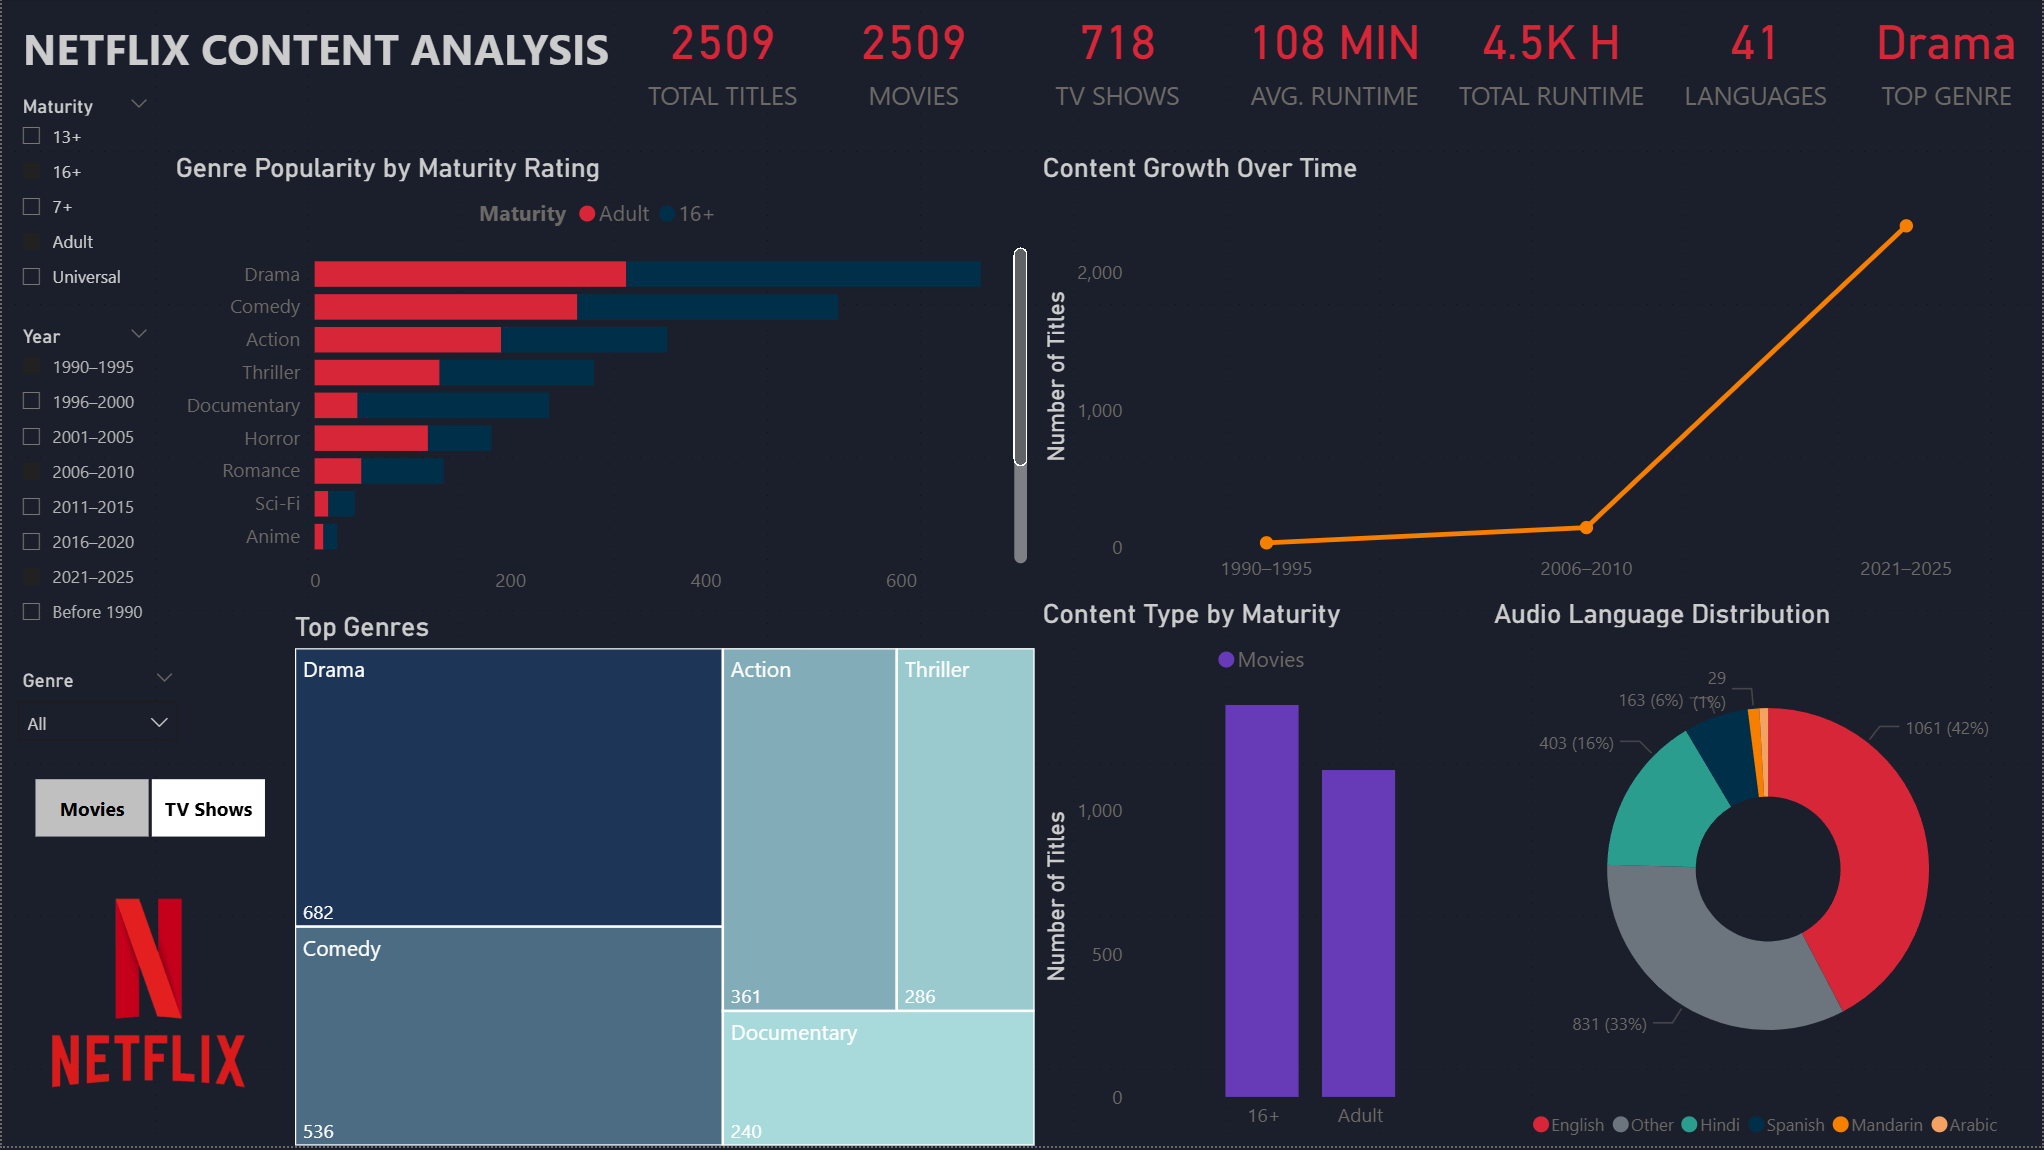

What the dashboard file says about the page in this screenshot:
{"tool":"powerbi","page":{"name":"EXECUTIVE SUMMARY","canvas":[1280,720],"ordinal":0},"visuals":[{"type":"textbox","box":[8,8,400,48],"z":0},{"type":"slicer","fields":{"Values":["netflix_cleaned (2).YearBucket"]},"box":[0,200,104,208],"z":1000},{"type":"barChart","title":"Genre Popularity by Maturity Rating","fields":{"Category":["netflix_cleaned (2).genre"],"Y":["CountNonNull(netflix_cleaned (2).title)"],"Series":["netflix_cleaned (2).MaturityLabel"]},"box":[104,96,544,288],"z":2000},{"type":"slicer","fields":{"Values":["netflix_cleaned (2).MaturityLabel"]},"box":[0,56,104,136],"z":3000},{"type":"slicer","fields":{"Values":["netflix_cleaned (2).genre"]},"box":[0,416,120,64],"z":4000},{"type":"donutChart","title":"Audio Language Distribution ","fields":{"Category":["netflix_cleaned (2).audio_grouped"],"Y":["CountNonNull(netflix_cleaned (2).title)"]},"box":[936,376,344,344],"z":5000},{"type":"treemap","title":"Top Genres","fields":{"Group":["netflix_cleaned (2).genre"],"Values":["CountNonNull(netflix_cleaned (2).title)"]},"box":[184,384,464,336],"z":6000},{"type":"lineChart","title":"Content Growth Over Time","fields":{"Y":["CountNonNull(netflix_cleaned (2).title)"],"Category":["netflix_cleaned (2).Era"]},"box":[648,96,632,280],"z":7000},{"type":"slicer","fields":{"Values":["netflix_cleaned.ContentType"]},"box":[0,488,184,40],"z":8000},{"type":"card","title":"TOTAL TITLES","fields":{"Values":["netflix_cleaned.TotalTitles"]},"box":[392,0,120,72],"z":9000},{"type":"card","title":"TOTAL TITLES","fields":{"Values":["netflix_cleaned.AverageRuntime"]},"box":[768,0,136,72],"z":10000},{"type":"card","title":"TOTAL TITLES","fields":{"Values":["netflix_cleaned.MovieCount"]},"box":[512,0,120,72],"z":11000},{"type":"card","title":"TOTAL TITLES","fields":{"Values":["netflix_cleaned.TVShowCount"]},"box":[632,0,136,72],"z":12000},{"type":"card","title":"TOTAL TITLES","fields":{"Values":["netflix_cleaned.UniqueLanguages"]},"box":[1040,0,120,72],"z":13000},{"type":"card","title":"TOTAL TITLES","fields":{"Values":["netflix_cleaned.TopGenre"]},"box":[1160,0,120,72],"z":14000},{"type":"card","title":"TOTAL TITLES","fields":{"Values":["netflix_cleaned.TotalRuntimeHours"]},"box":[904,0,136,72],"z":15000},{"type":"columnChart","title":"Content Type by Maturity","fields":{"Category":["netflix_cleaned.MaturityLabel"],"Y":["CountNonNull(netflix_cleaned.title)"],"Series":["netflix_cleaned.ContentType"]},"box":[648,376,288,344],"z":16000},{"type":"image","box":[0,528,184,192],"z":16001}]}

Visuals, with their boxes in screenshot pixels (x1, y1, x2, y2), scaled from the page's 1280x720 canvas onto the 2044x1150 screenshot:
textbox: <region>13, 13, 652, 89</region>
slicer - netflix_cleaned (2).YearBucket: <region>0, 319, 166, 652</region>
"Genre Popularity by Maturity Rating" barChart: <region>166, 153, 1035, 613</region>
slicer - netflix_cleaned (2).MaturityLabel: <region>0, 89, 166, 307</region>
slicer - netflix_cleaned (2).genre: <region>0, 664, 192, 767</region>
"Audio Language Distribution " donutChart: <region>1495, 601, 2043, 1149</region>
"Top Genres" treemap: <region>294, 613, 1035, 1149</region>
"Content Growth Over Time" lineChart: <region>1035, 153, 2043, 601</region>
slicer - netflix_cleaned.ContentType: <region>0, 779, 294, 843</region>
"TOTAL TITLES" card: <region>626, 0, 818, 115</region>
"TOTAL TITLES" card: <region>1226, 0, 1444, 115</region>
"TOTAL TITLES" card: <region>818, 0, 1009, 115</region>
"TOTAL TITLES" card: <region>1009, 0, 1226, 115</region>
"TOTAL TITLES" card: <region>1661, 0, 1852, 115</region>
"TOTAL TITLES" card: <region>1852, 0, 2043, 115</region>
"TOTAL TITLES" card: <region>1444, 0, 1661, 115</region>
"Content Type by Maturity" columnChart: <region>1035, 601, 1495, 1149</region>
image: <region>0, 843, 294, 1149</region>
